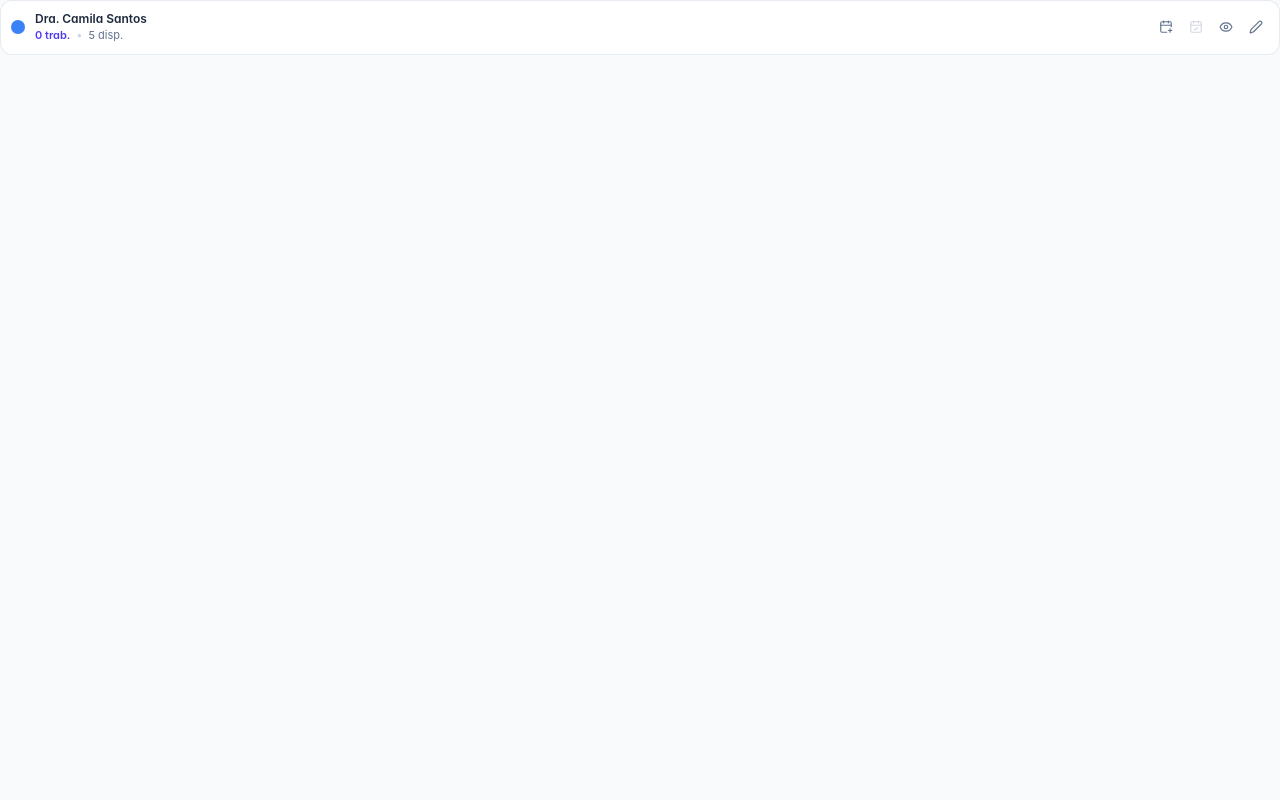
Scenario: PersonCard › opens a shift picker when the person is available on more than one shift
The image size is (1280, 800).
Click the button named "Inserir todos os dias de Dra. Camila Santos no calendário".
click(1166, 27)  # box [1153,14,1179,40]
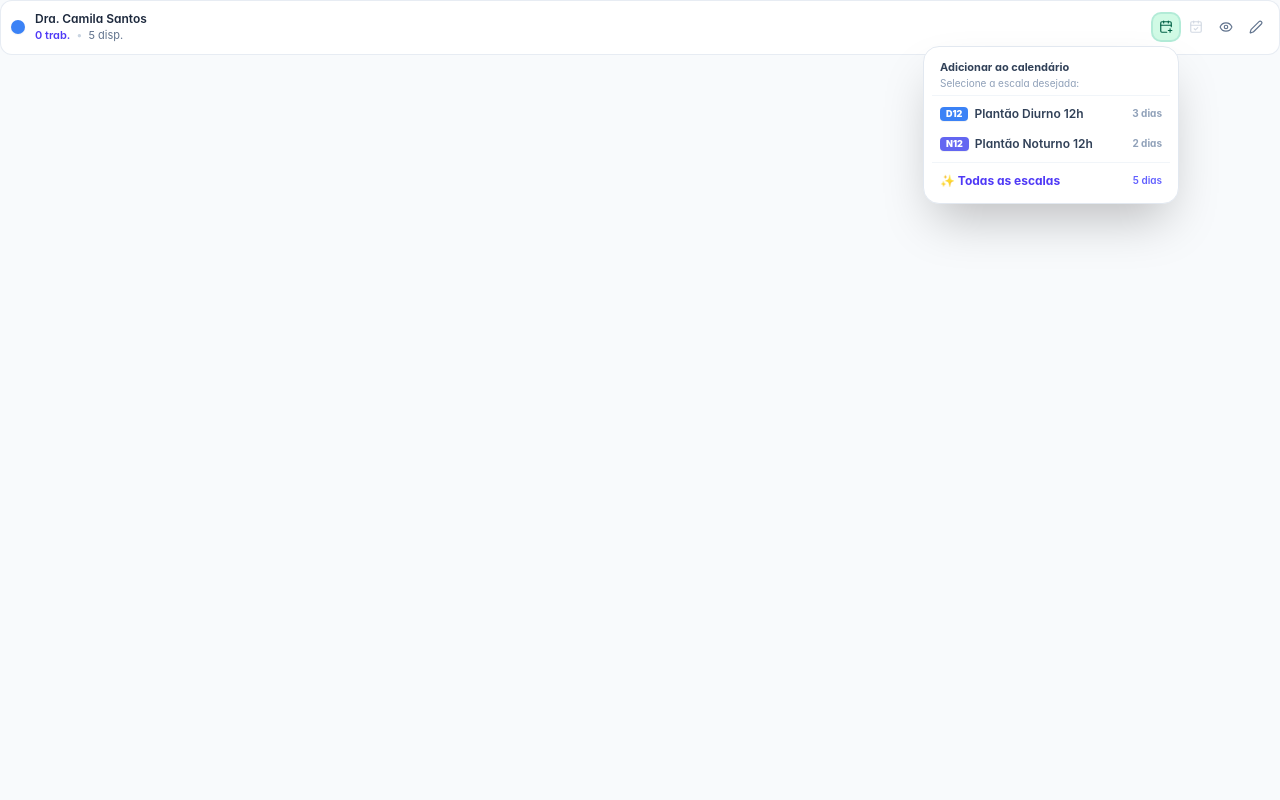
expect the dialog with test id "shift-selection-balloon" is shown: met, box [923,46,1179,204]
expect the text "Plantão Diurno 12h" is shown: met
expect the text "Plantão Noturno 12h" is shown: met, box [975,136,1093,152]
Clicking Plantão Diurno 12h option calls onInsertAllDays with 'shift_d12'
Click the text "Plantão Diurno 12h".
click(1029, 114)  # box [974,106,1084,122]
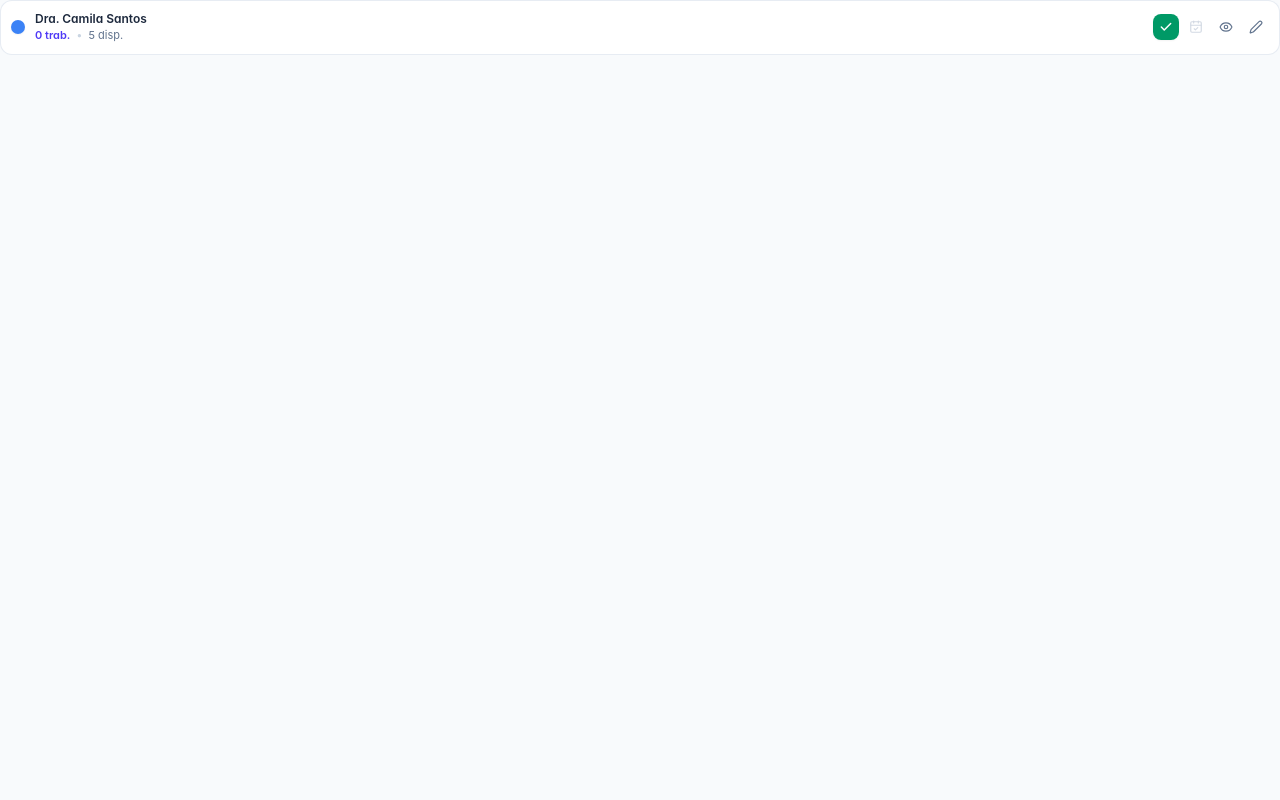
expect the dialog with test id "shift-selection-balloon" is gone: met
